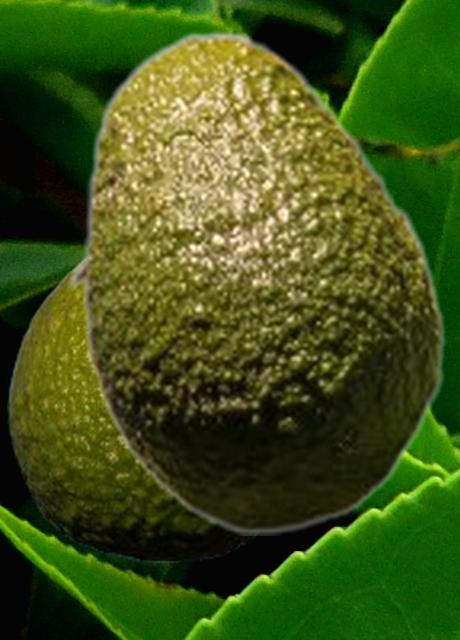avocado: (67, 30, 446, 534), (7, 256, 261, 561)
